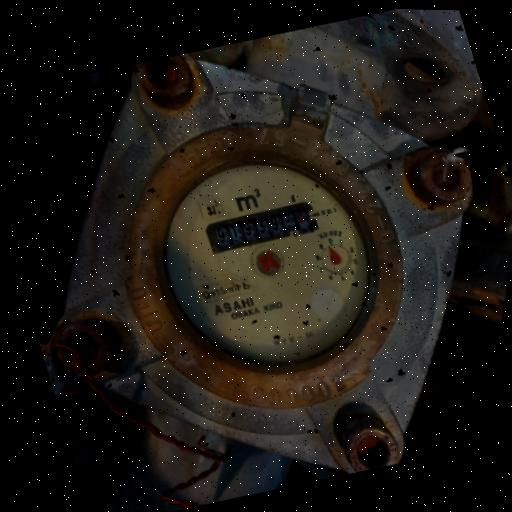1: (228, 221, 243, 244)
3: (254, 215, 270, 237)
5: (281, 209, 297, 231)
8: (294, 207, 310, 234)
9: (213, 224, 231, 247), (268, 212, 283, 234), (242, 219, 256, 241)
border_water_meter_number: (202, 197, 323, 257)
